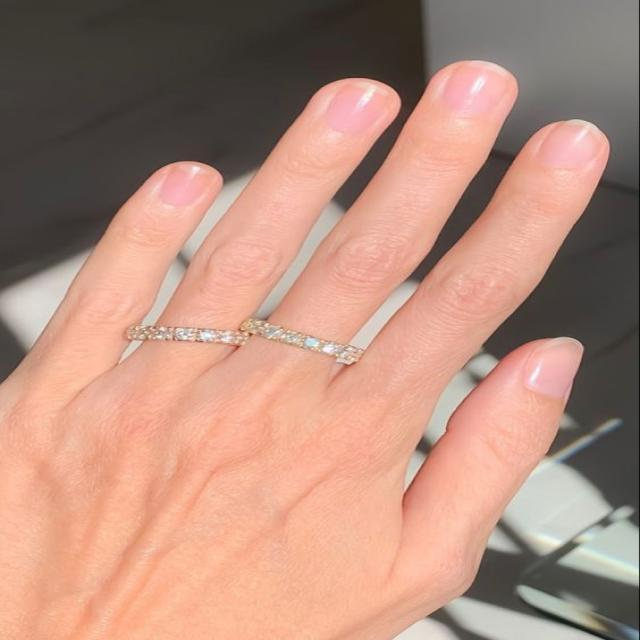Fingernail: (442, 61, 511, 116), (523, 337, 584, 399), (325, 82, 393, 137), (538, 119, 606, 171), (156, 165, 213, 209)
